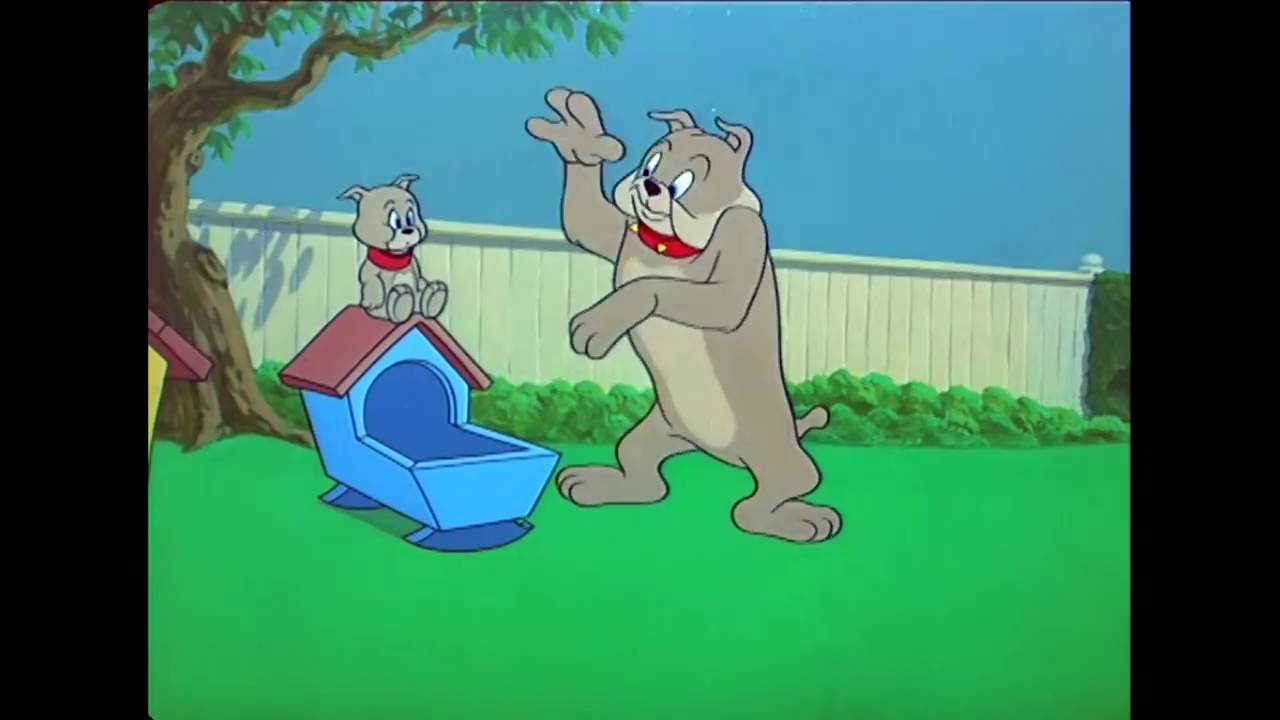spike: (609, 104, 769, 264)
